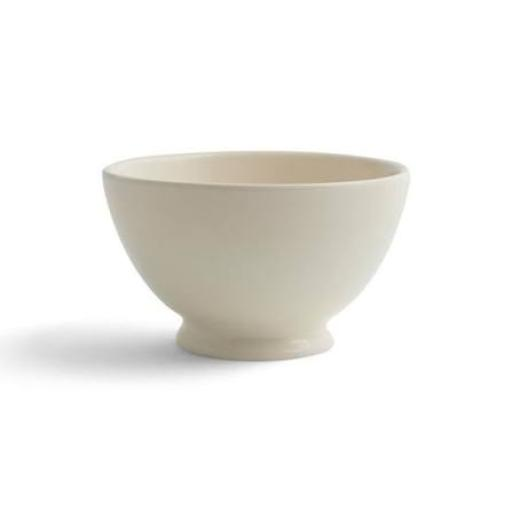Bowl: (103, 151, 409, 360)
